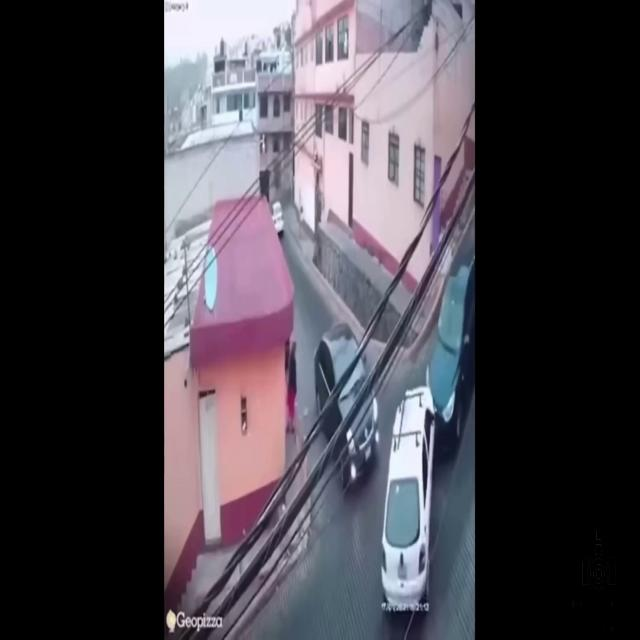accident: (389, 254, 468, 546)
